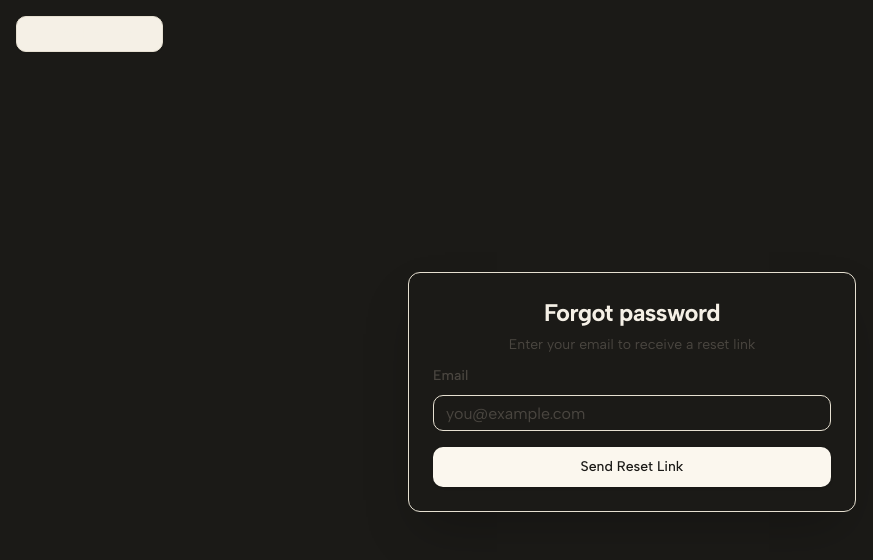
Test case: ForgotPassword › shows success message after submission
Type "test@test.com" into the field labelled "Email".
click(632, 413); type("test@test.com")  # box [433,395,831,431]
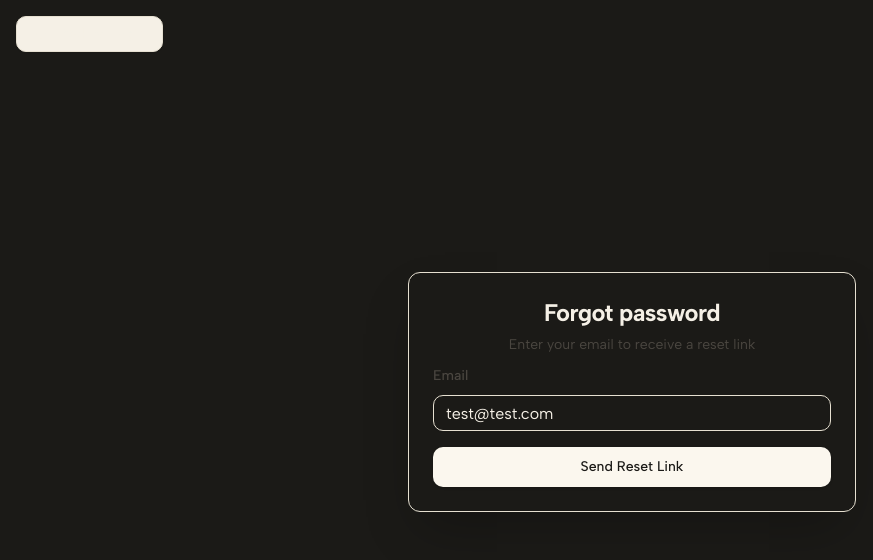
Submit the form "Email Send Reset Link", box [433,363,831,487]
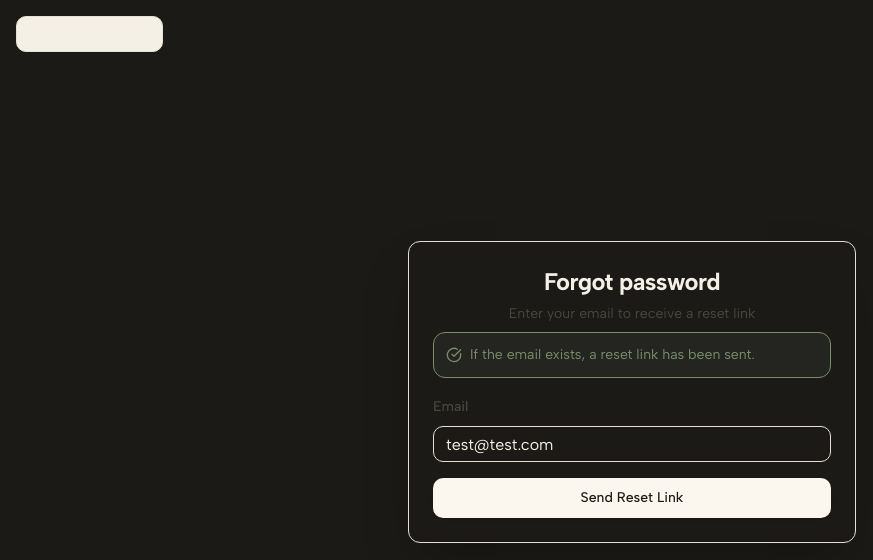
Check: the text "If the email exists, a reset link has been sent." is shown, box [470,345,755,365]
